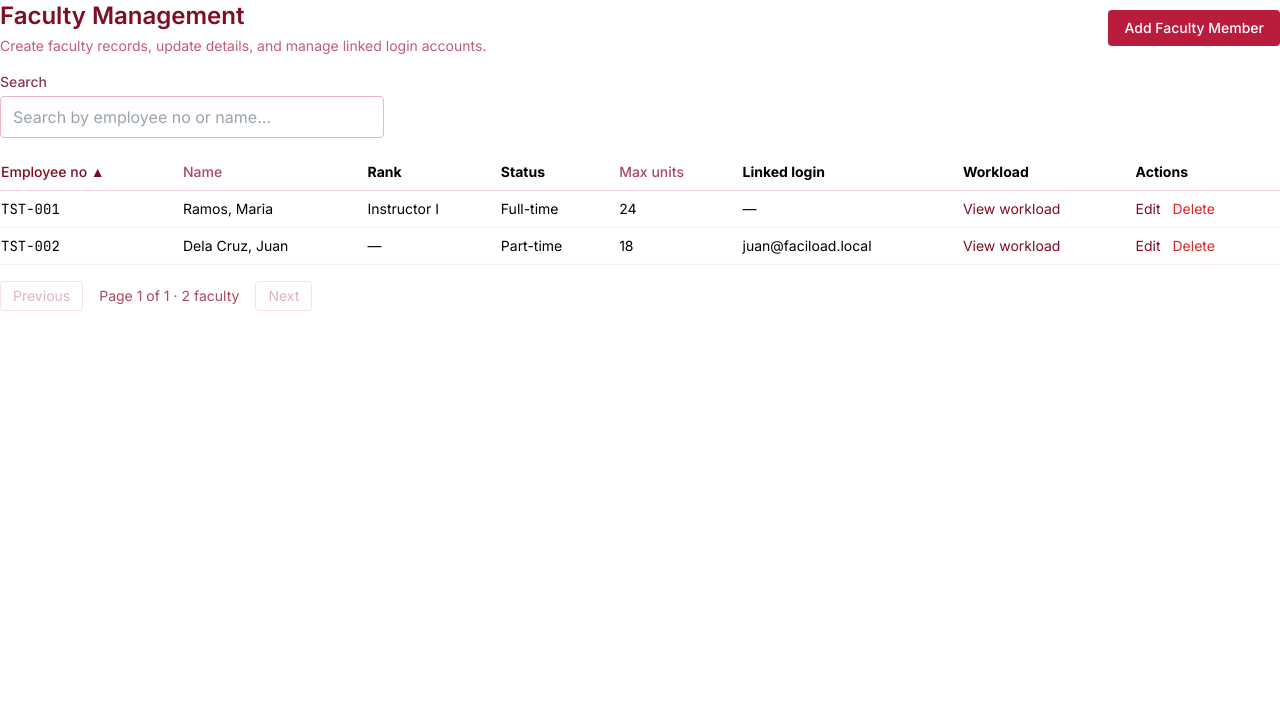
it: FacultyManagementPage — edit › pre-fills the modal and saves edits in place
Click the button "Edit" in the row of "TST-001".
click(1148, 209)  # box top-left (1136, 199), bottom-right (1160, 219)
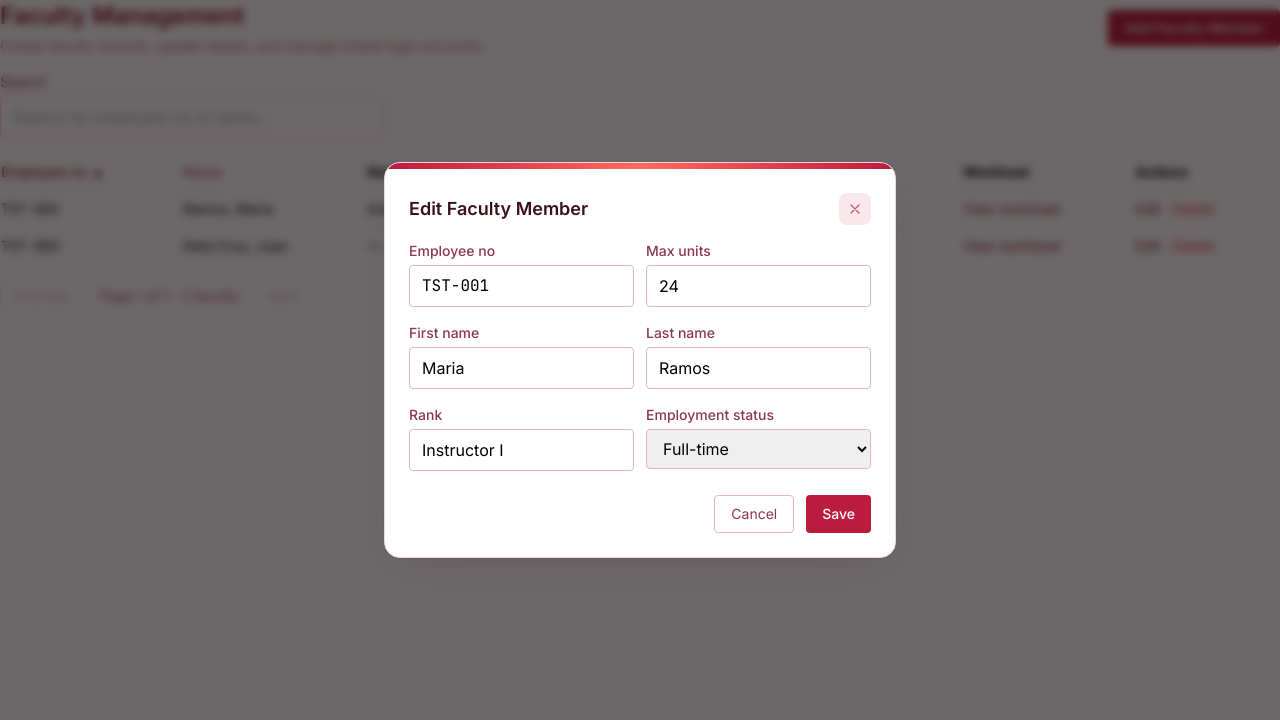
Expected: the dialog shows "Edit Faculty Member", top-left (409, 198), bottom-right (588, 219)
Expected: the field labelled "First name" holds "Maria"
Replace the text in the field labelled "First name" with "Maria Clara" at (522, 368), box top-left (409, 347), bottom-right (634, 389)
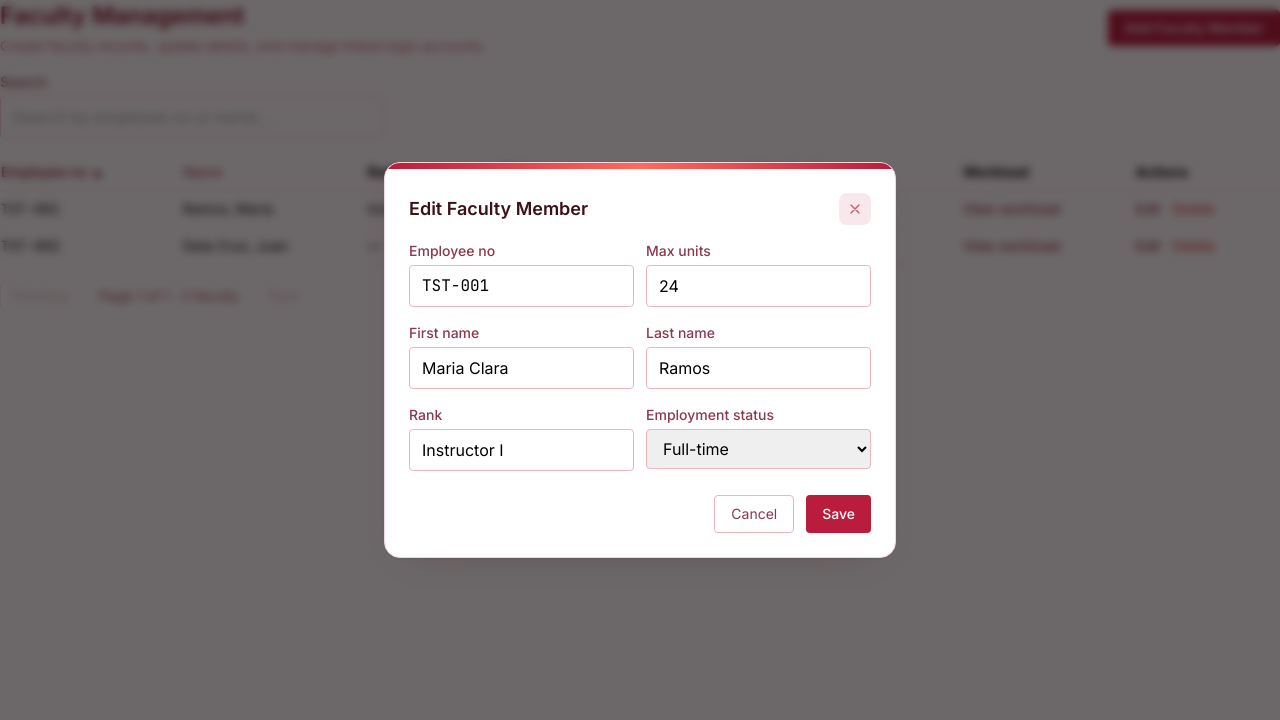
Click the button "Save".
click(839, 514)  # box top-left (806, 495), bottom-right (871, 533)
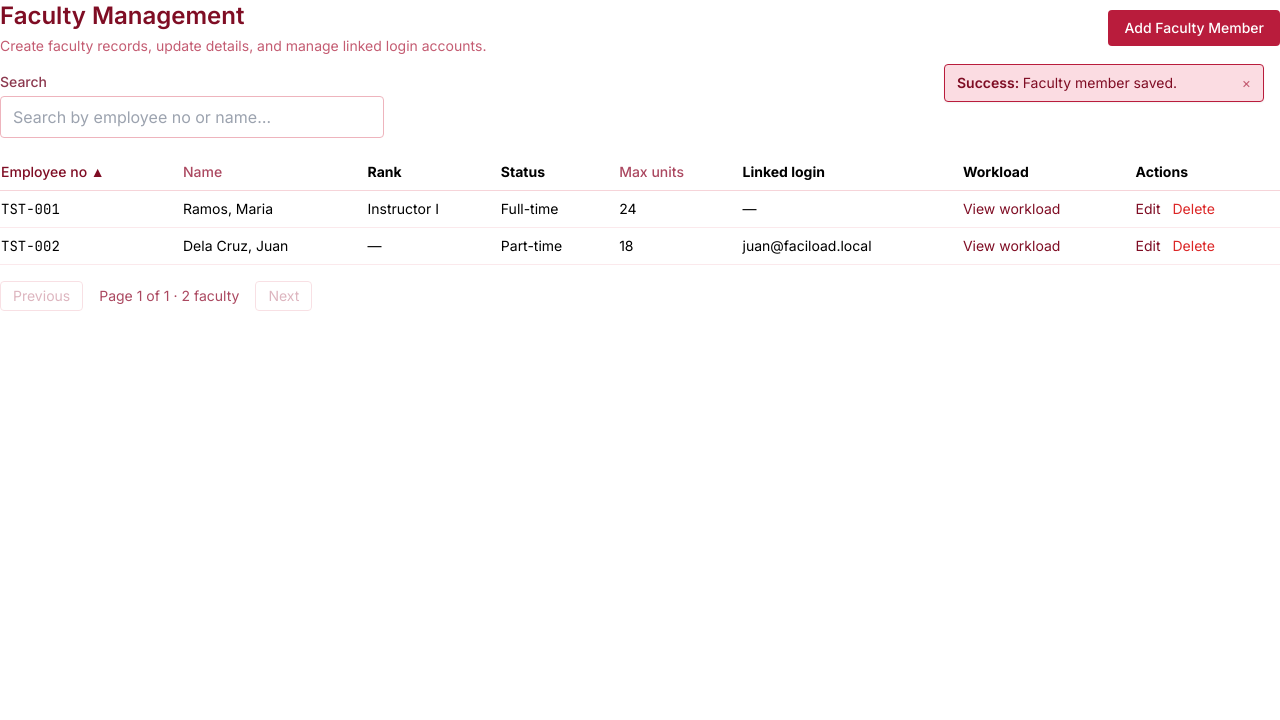
Expected: the text "Success: Faculty member saved." is shown, top-left (957, 73), bottom-right (1177, 93)
